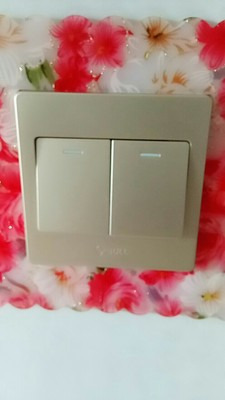switch: (106, 133, 190, 244), (34, 129, 113, 240)
